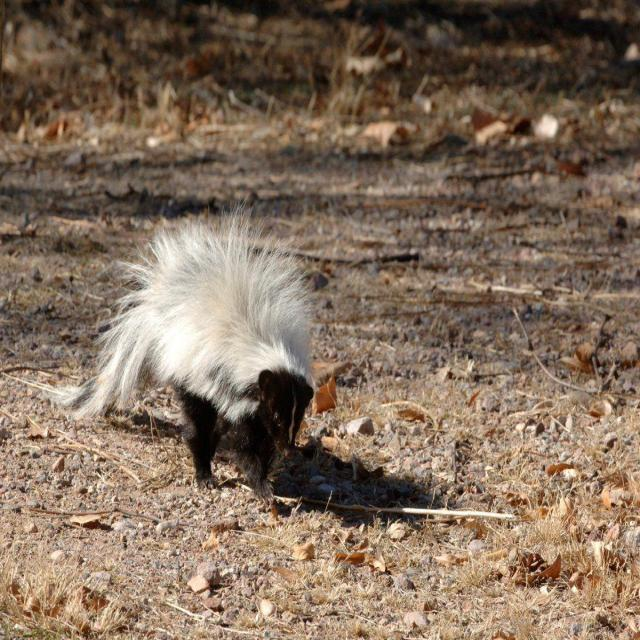Skunk: (56, 214, 339, 508)
